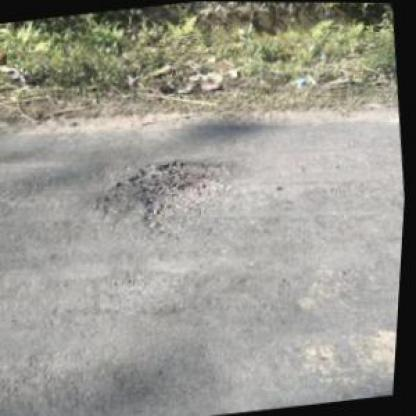pothole: (120, 152, 245, 235)
